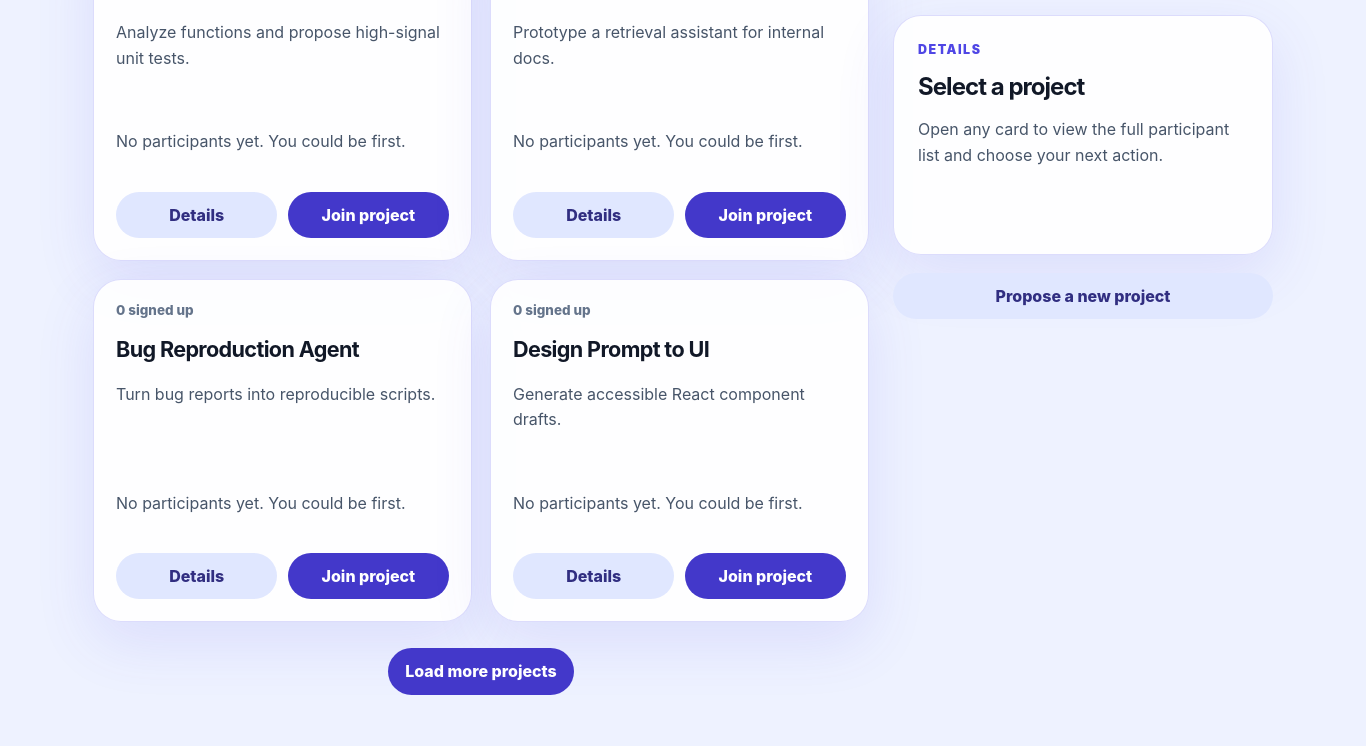
Scenario: App › appends additional projects when infinite scroll load-more is used
The image size is (1366, 746).
(page scrolled)
Expected: the text "SQL Query Explainer" is not shown
Click the button "Load more projects".
click(481, 671)  # box [388,648,574,694]
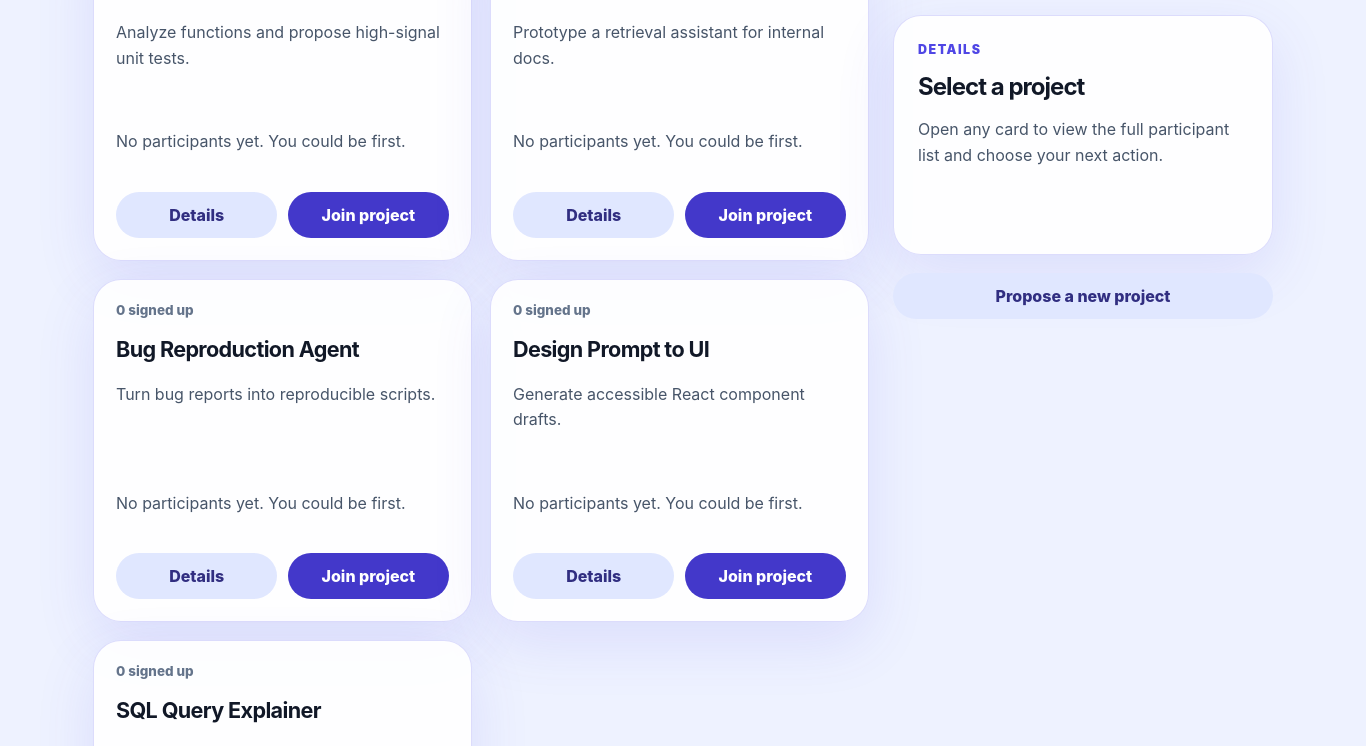
Expected: the heading "SQL Query Explainer" is shown, [116,697,321,723]
